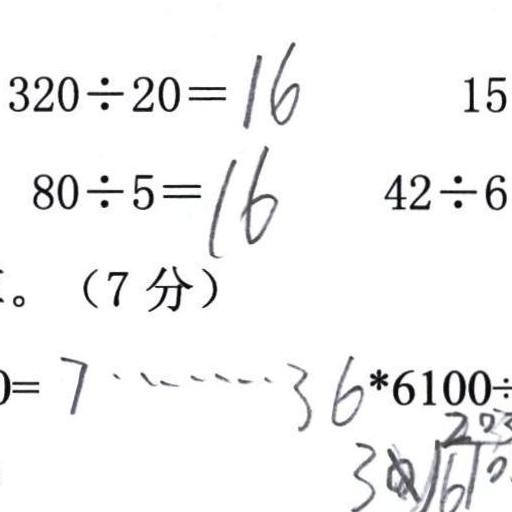ans: (57, 351, 364, 432), (201, 142, 280, 255), (236, 39, 301, 129)
